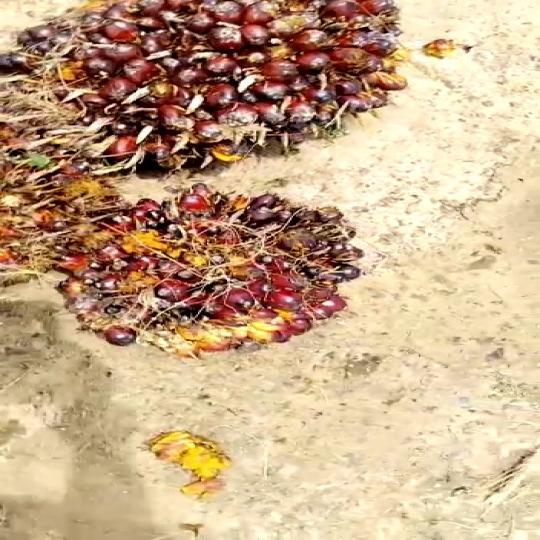masak: (0, 0, 417, 177), (61, 188, 375, 355)
